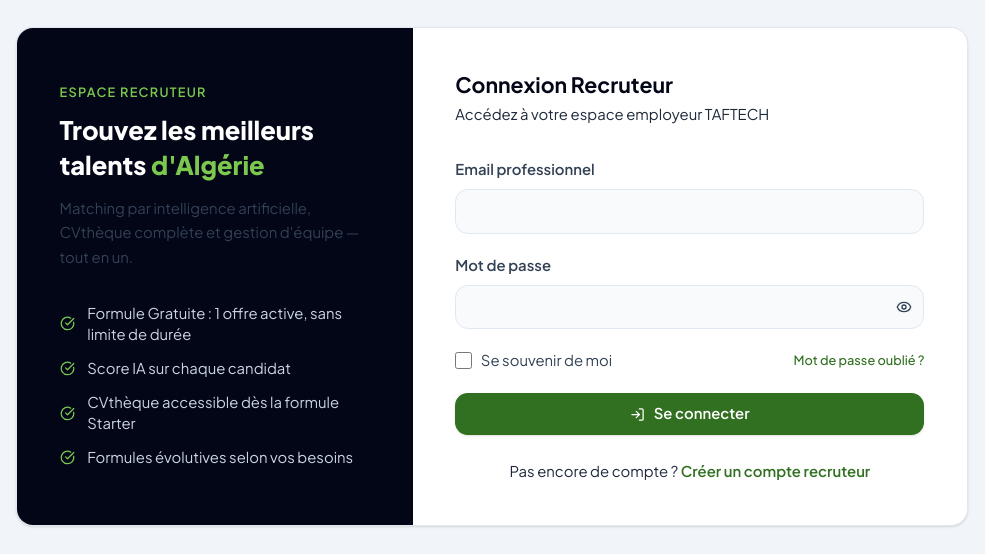
Scenario: 🔐 Connexion recruteur : erreurs sous les champs › 🔴 e-mail mal formé refusé sous le champ
Type "pas-un-email" into the field.
click(690, 211); type("pas-un-email")  # box [455,189,924,234]
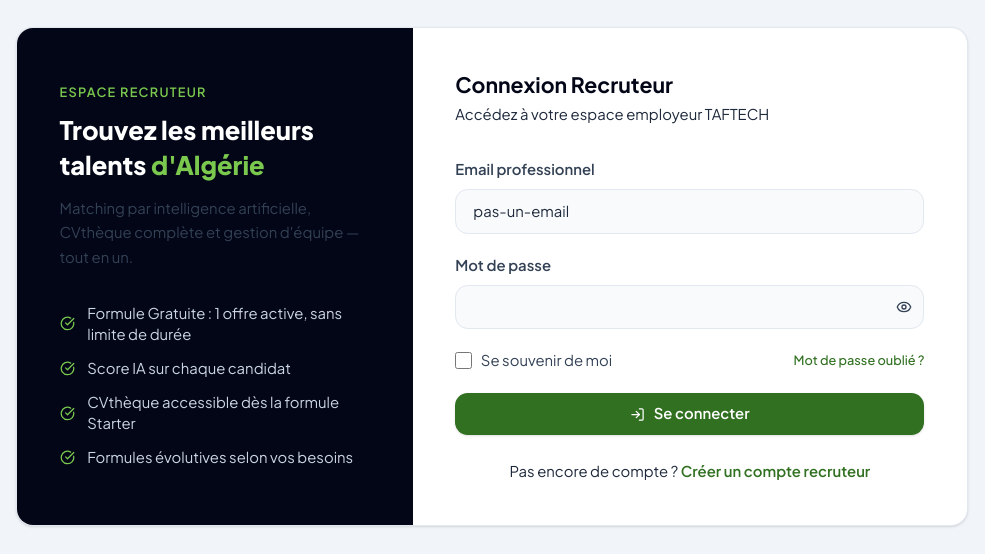
Type "secret" into the password field.
click(690, 307); type("secret")  # box [455,284,924,329]
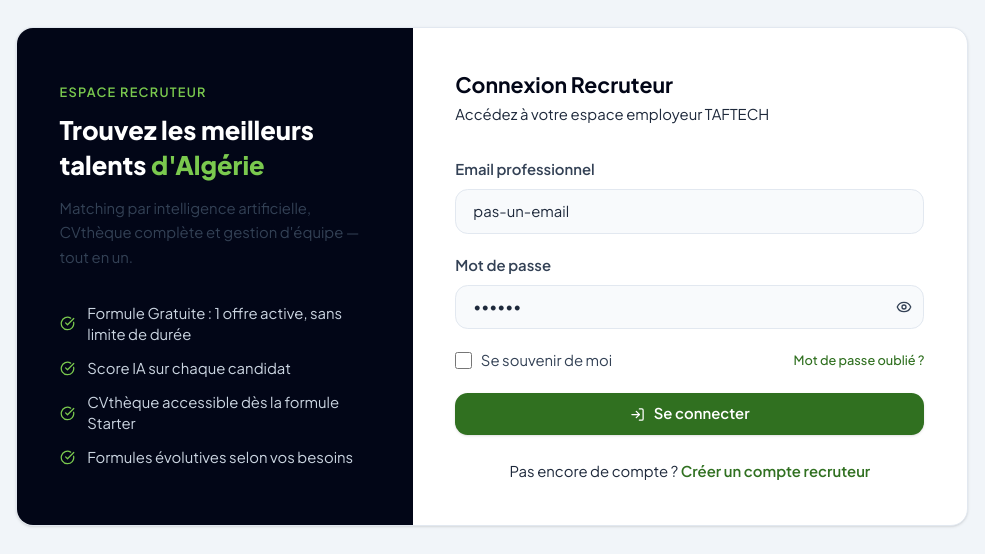
Submit the form, box [455,159,924,435]
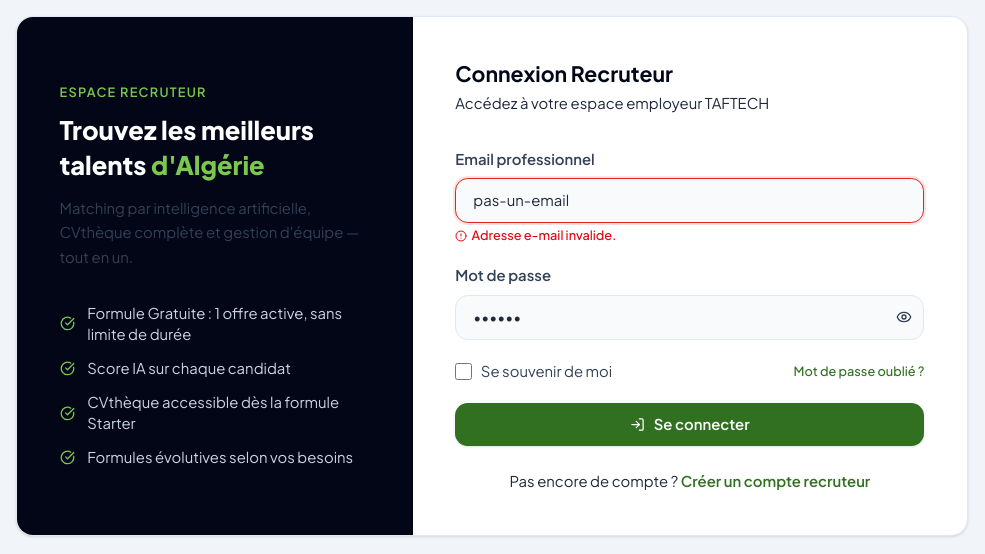
Check: the text "Adresse e-mail invalide." is shown, box [455,227,616,243]
